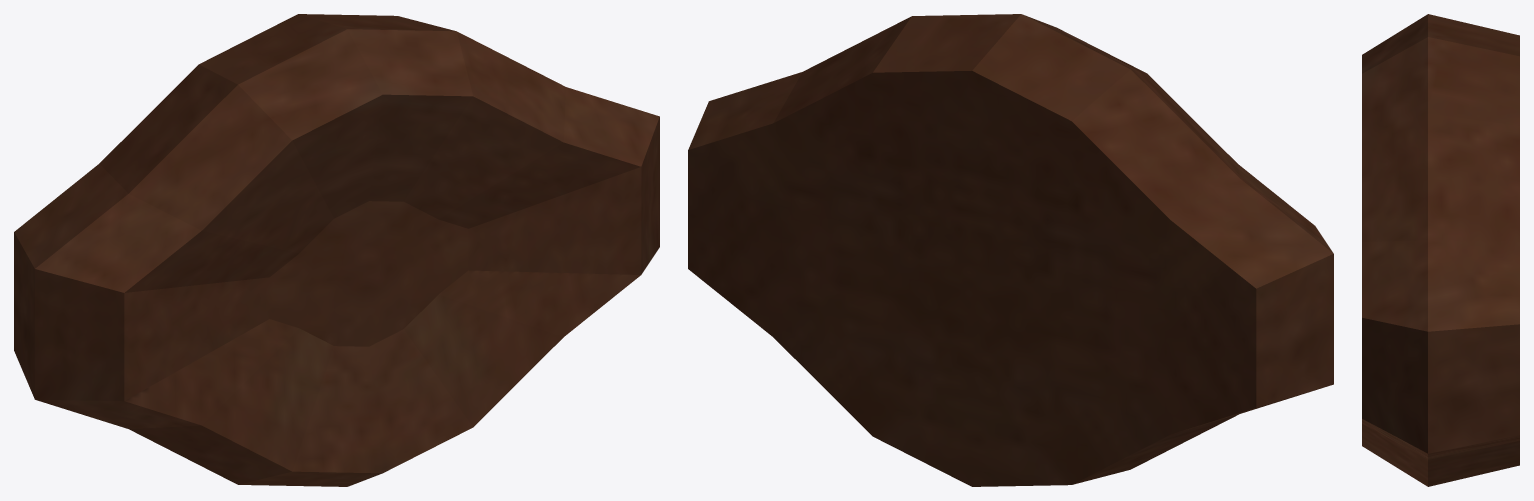
The model's file is woodenguard.obj.
3 views of the same model, side by side, from view 1: azimuth 30°, elevation 25°; view 2: azimuth 150°, elevation 25°; view 3: azimuth 270°, elevation 25° (orthographic). The views are drawn at different scales.
Parts seen in each view (by area): view 1: Base; view 2: Base; view 3: Base.
Part boxes in pixels (x1,y1,x2,y2): Base: [14, 14, 659, 486]; Base: [688, 14, 1333, 486]; Base: [1362, 14, 1519, 486].
Bounding box in the file's own units: 0.4974 × 0.3482 × 0.1167.
